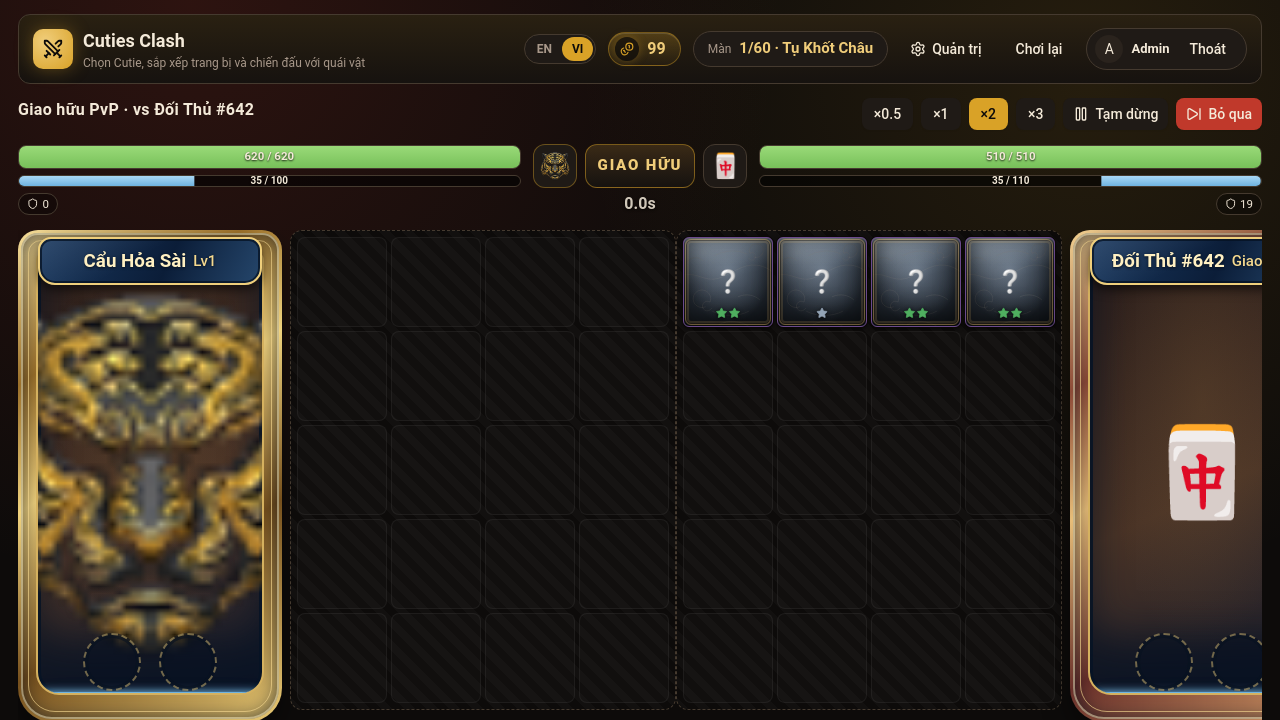
Test: navigation between the preparation room and the shop › abandons an active PvP battle and opens admin when the admin link is clicked
Click the button "Quản trị" at (946, 49), box x1=900 y1=33 x2=992 y2=65
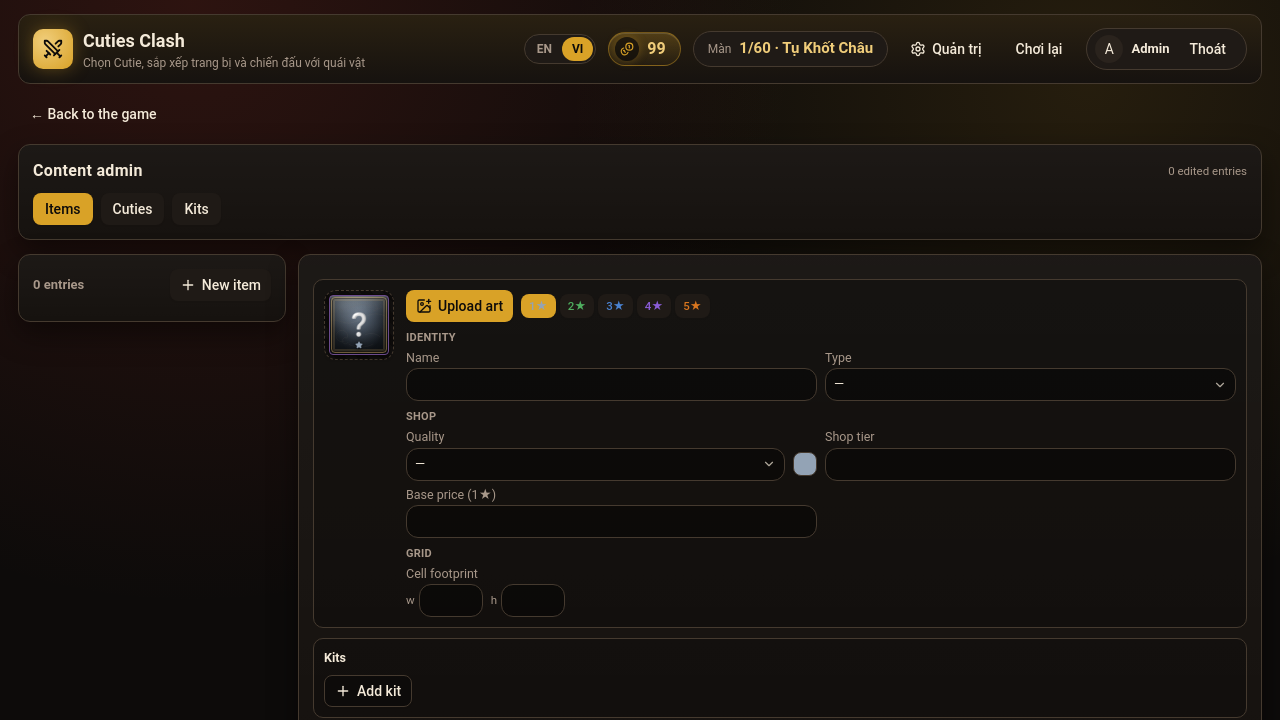
Now the heading "Content admin" is shown, box x1=33 y1=159 x2=143 y2=183
